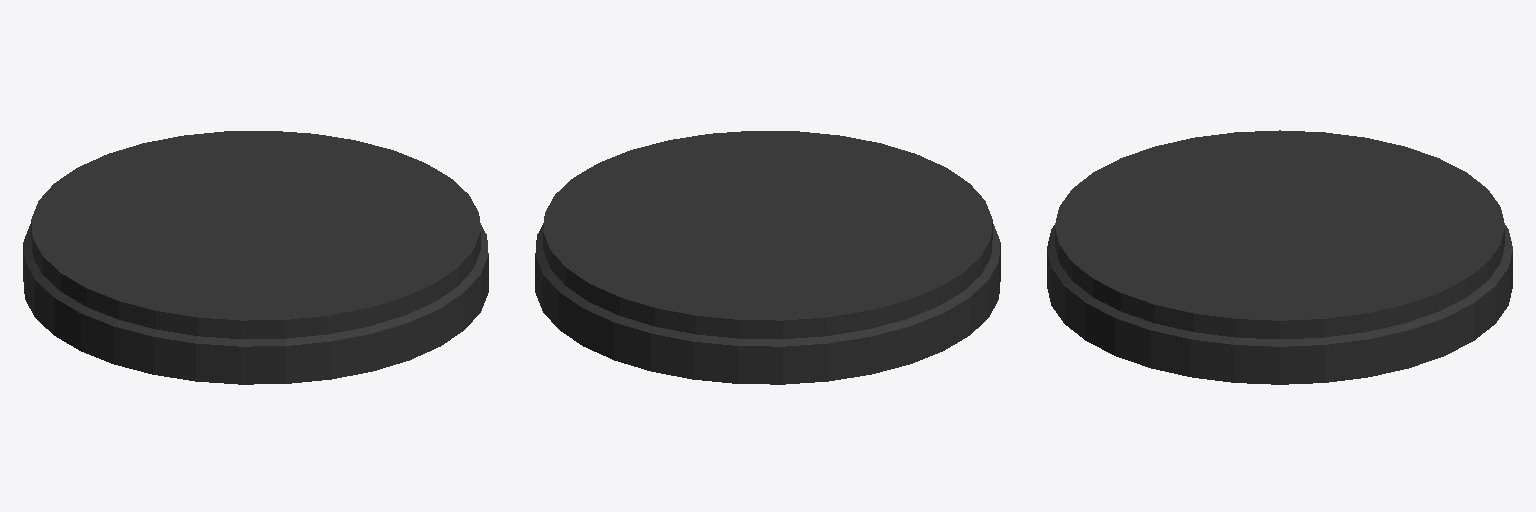
File: tempTurretBase.obj
3 views of the same model, side by side, from view 1: azimuth 30°, elevation 25°; view 2: azimuth 150°, elevation 25°; view 3: azimuth 270°, elevation 25° (orthographic).
Parts seen in each view (by area): view 1: Cylinder.004; view 2: Cylinder.004; view 3: Cylinder.004.
Boxes of the visible parts, x1,y1,x2,y2 form: Cylinder.004: [23, 131, 488, 384]; Cylinder.004: [535, 131, 1000, 384]; Cylinder.004: [1047, 130, 1512, 384].
Size of the model in its own units: 1.43 by 0.2053 by 1.43.